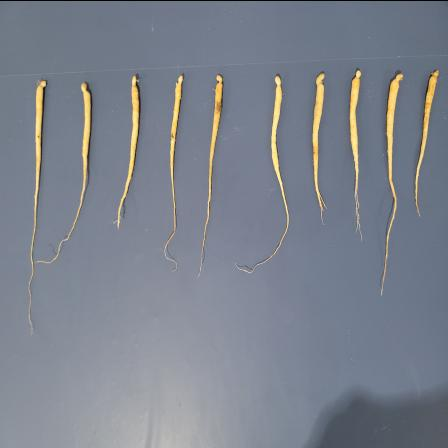Ginseng: (236, 72, 292, 280), (50, 78, 96, 262), (27, 74, 49, 336), (380, 67, 404, 297), (198, 70, 224, 282), (162, 70, 186, 272), (116, 72, 140, 230), (415, 67, 440, 216), (348, 66, 365, 242), (311, 70, 329, 227)
head: (390, 70, 404, 86), (315, 72, 326, 88), (130, 74, 139, 92), (80, 81, 90, 97), (36, 78, 47, 92), (352, 69, 362, 83), (274, 74, 282, 90), (429, 68, 439, 80), (176, 74, 184, 88), (216, 73, 224, 87)
